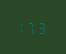one: (18, 19, 26, 33)
seven: (28, 19, 36, 34)
three: (37, 20, 45, 34)
